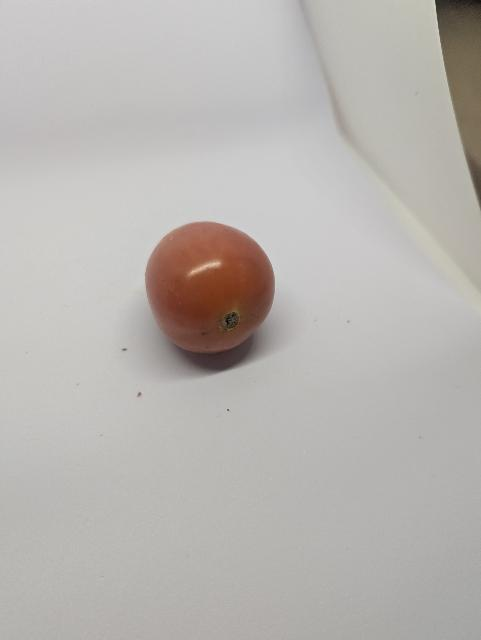red: (144, 219, 278, 357)
